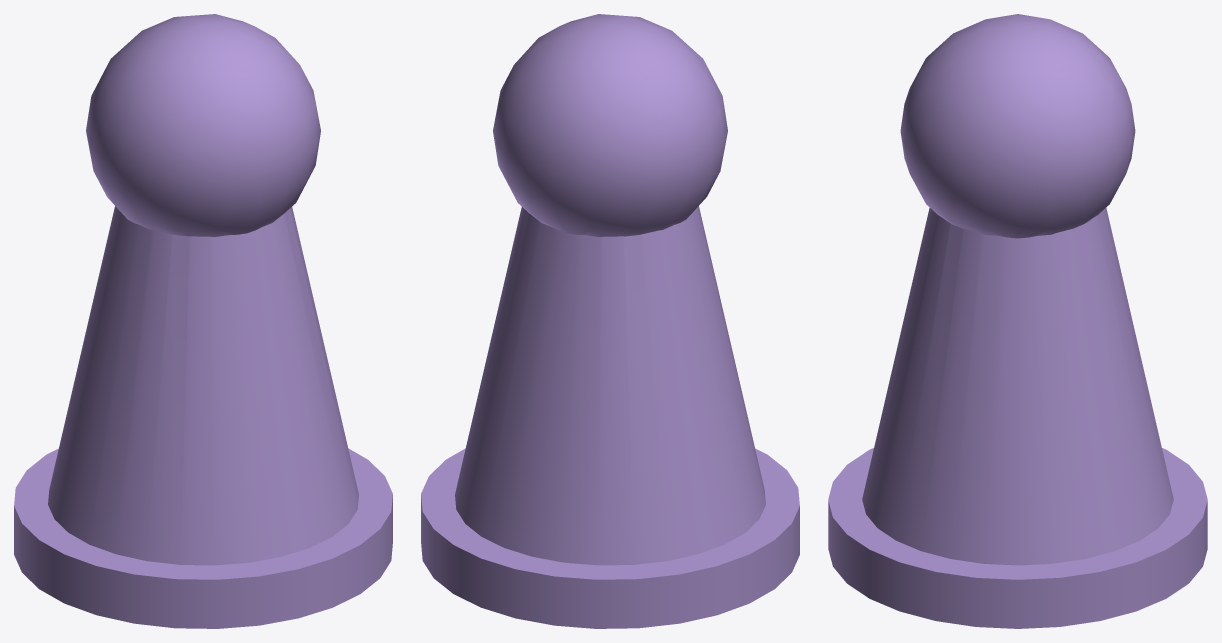
File: ruhm_marker_lavendel.glb
3 views of the same model, side by side, from view 1: azimuth 30°, elevation 25°; view 2: azimuth 150°, elevation 25°; view 3: azimuth 270°, elevation 25° (orthographic).
Parts seen in each view (by area): view 1: ruhm_marker_lavendel; view 2: ruhm_marker_lavendel; view 3: ruhm_marker_lavendel.
Boxes of the visible parts, <box> form: ruhm_marker_lavendel: <box>14,14,392,628</box>; ruhm_marker_lavendel: <box>421,14,799,628</box>; ruhm_marker_lavendel: <box>828,14,1207,628</box>.
Size of the model in its own units: 8.4 by 12.8 by 8.4.
